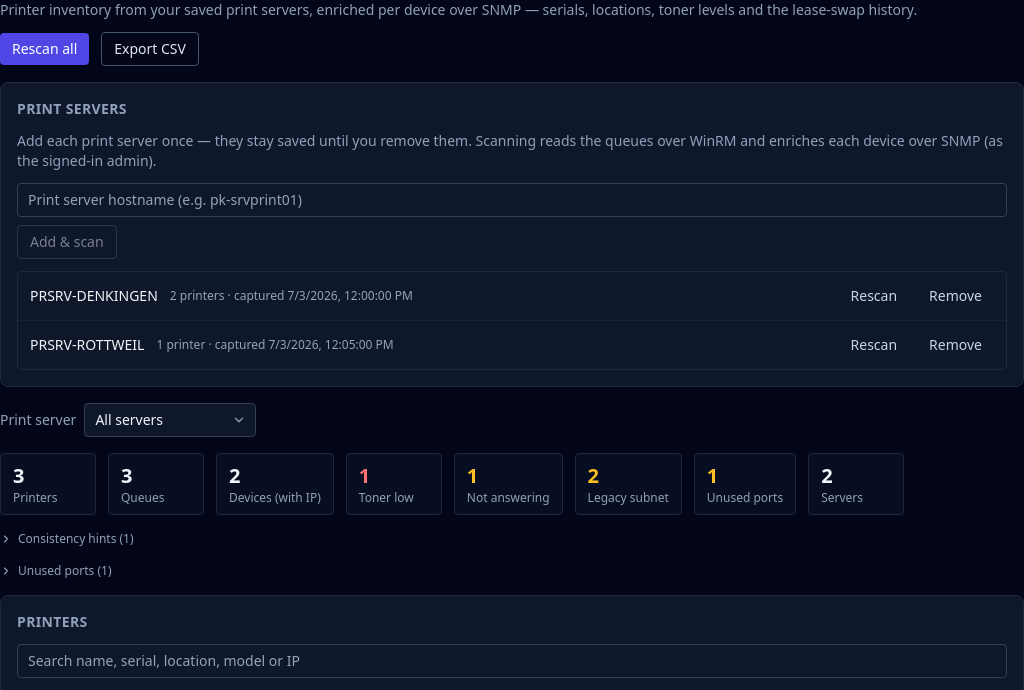
Test: PrintManagementPage › does not mark printers outside a filtered DHCP request as missing
The width and height of the screenshot is (1024, 690).
Type "Denkingen-EG" into the search field named "Search printers" at (512,661), box left=17, top=644, right=1007, bottom=678
(page scrolled)
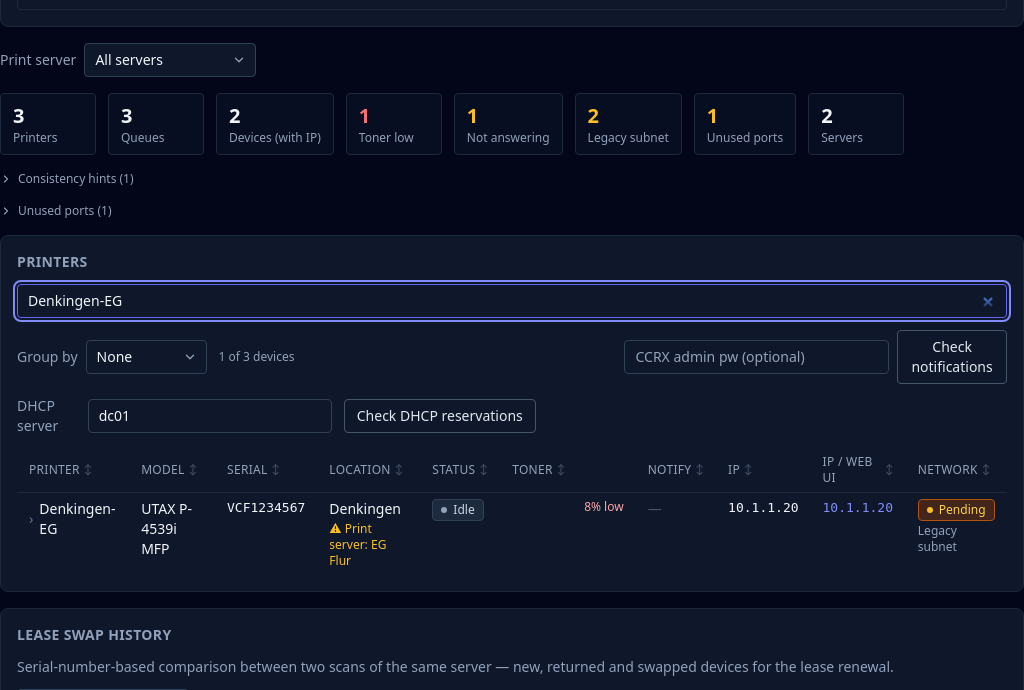
Click the button "Check DHCP reservations" at (440,416), box left=344, top=399, right=536, bottom=433
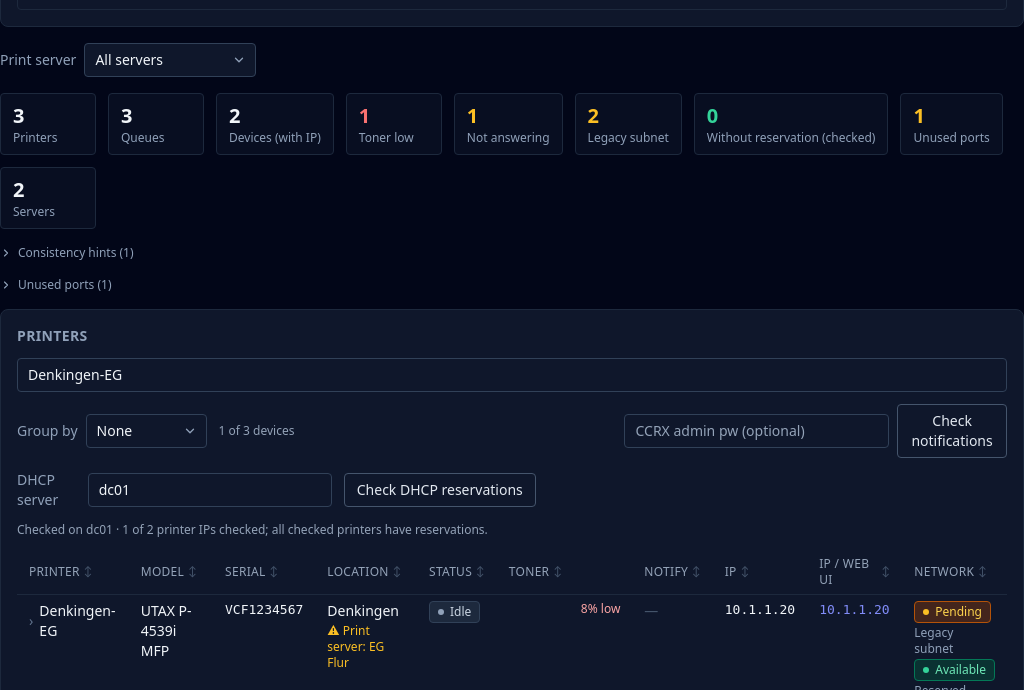
Result: the text "1 of 2 printer IPs checked; all checked printers have reservations." is shown at left=122, top=521, right=488, bottom=538
Clear the search field named "Search printers" at (512,375), box left=17, top=358, right=1007, bottom=392
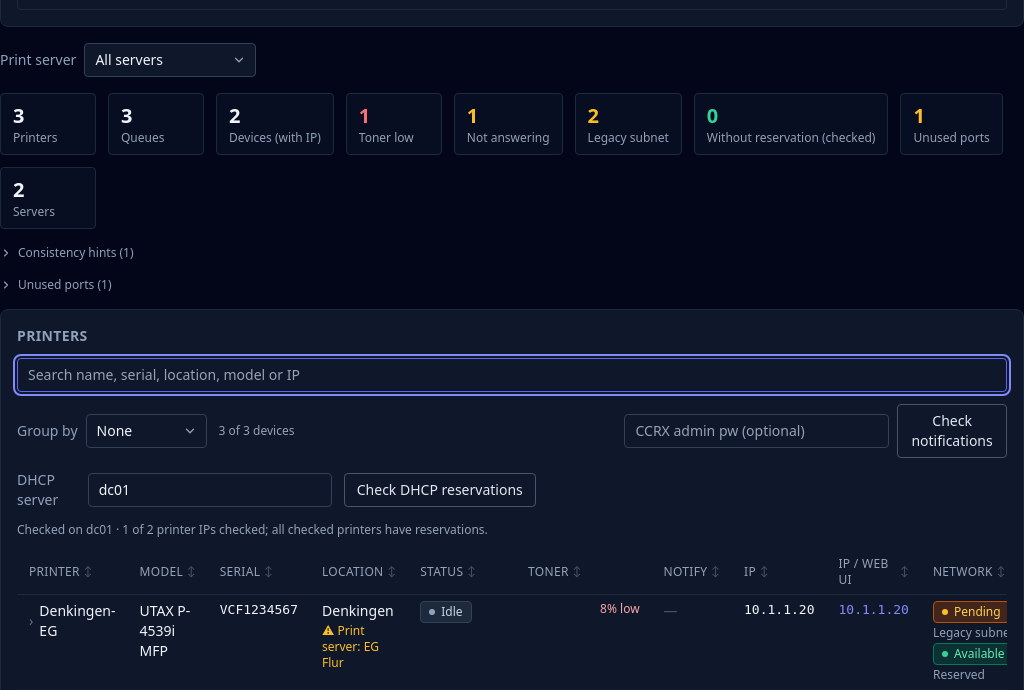
Result: the text "Available" is shown at left=933, top=643, right=1007, bottom=665
Clear the field labelled "DHCP server" at (210,490), box left=88, top=473, right=332, bottom=507
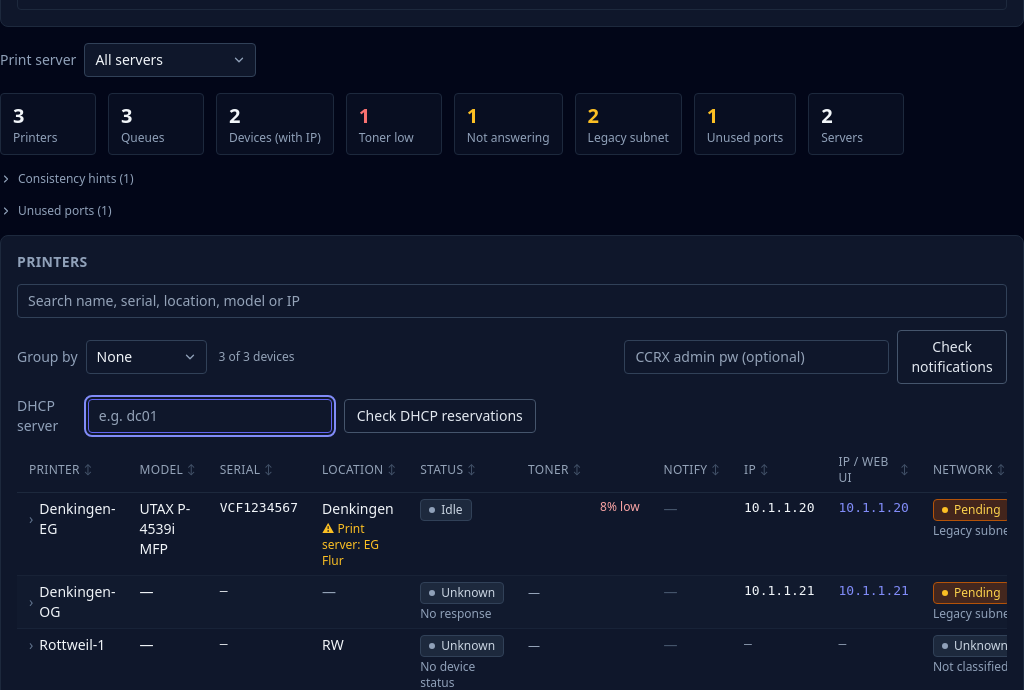
Result: the text "Available" is gone
Result: the text "Checked on dc01" is gone
